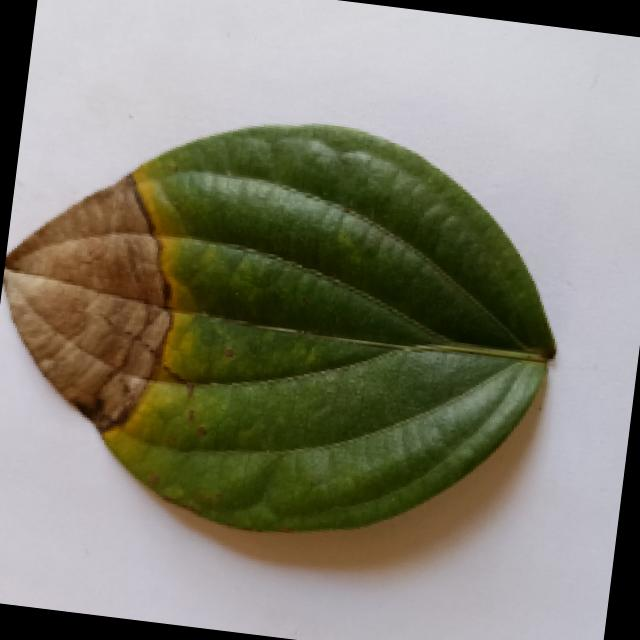footrot: (0, 84, 602, 577)
